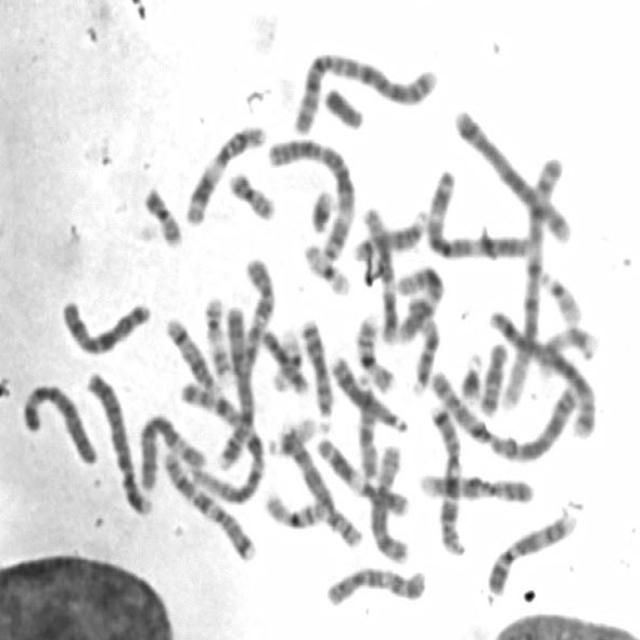A1: (498, 148, 569, 412), (177, 378, 269, 506)
A2: (426, 359, 582, 463), (285, 43, 443, 135)
A3: (262, 130, 357, 262), (423, 163, 537, 261)
B4: (82, 363, 156, 518), (215, 300, 256, 471)
B5: (450, 102, 575, 245), (486, 303, 600, 441)
C10: (229, 252, 279, 378), (321, 560, 431, 610)
C11: (180, 118, 269, 227), (312, 430, 413, 518)
C12: (357, 198, 399, 344), (387, 258, 446, 345)
C6: (15, 376, 99, 468), (134, 408, 208, 493)
C7: (158, 444, 260, 562), (424, 396, 470, 557)
C8: (274, 416, 366, 551), (367, 439, 412, 564)
C9: (484, 505, 579, 598), (412, 466, 537, 506)
D13: (323, 348, 410, 436), (295, 311, 335, 433)
D14: (160, 310, 222, 394), (350, 203, 431, 264)
D15: (402, 287, 442, 396), (352, 370, 380, 480)
E16: (350, 308, 398, 395), (259, 484, 329, 530)
E17: (534, 319, 600, 380), (200, 290, 233, 380)
E18: (259, 332, 310, 396), (475, 336, 510, 417)
F19: (298, 236, 354, 298), (271, 324, 306, 395)
F20: (138, 178, 184, 250), (223, 164, 279, 222)
G21: (456, 346, 486, 403), (306, 182, 337, 235)
G22: (534, 262, 584, 327), (262, 410, 318, 458)
X: (58, 291, 154, 358)
Y: (320, 80, 367, 131)
